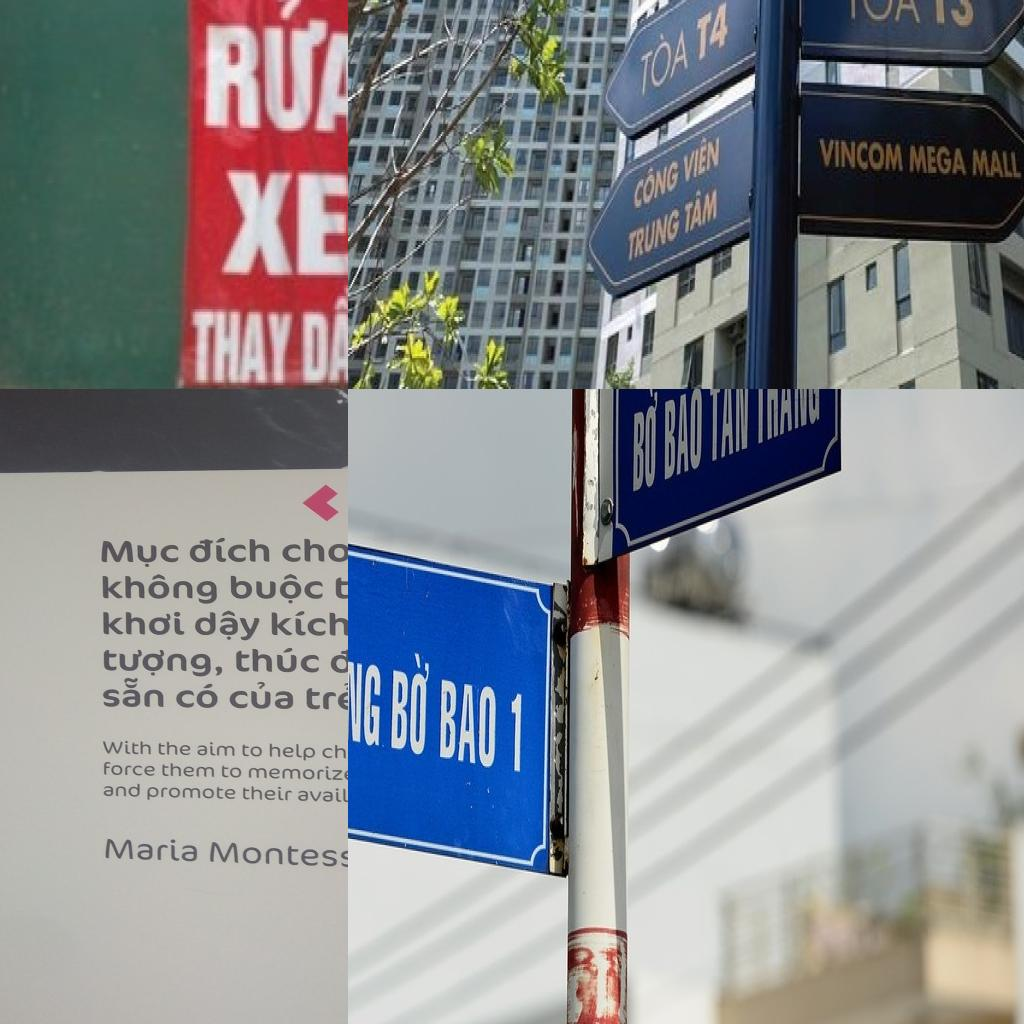text: (199, 0, 348, 143), (217, 164, 348, 285), (185, 303, 296, 389), (434, 659, 498, 773), (384, 638, 433, 760), (298, 282, 348, 389), (348, 618, 385, 752), (100, 645, 227, 681), (640, 19, 691, 101), (94, 573, 220, 606), (625, 389, 661, 499), (662, 389, 704, 481), (705, 389, 751, 467), (99, 833, 201, 868), (224, 572, 326, 604), (627, 208, 683, 264), (818, 138, 906, 173), (229, 644, 324, 675), (185, 534, 273, 567), (100, 607, 188, 640), (634, 153, 680, 214), (98, 538, 183, 571), (266, 607, 348, 641), (190, 606, 261, 644), (225, 680, 296, 714), (244, 762, 348, 785), (695, 0, 731, 66), (99, 678, 168, 712), (683, 130, 721, 187), (278, 536, 348, 566), (841, 0, 922, 25), (684, 181, 720, 237), (908, 144, 969, 177), (506, 682, 526, 776), (297, 679, 348, 715), (144, 784, 238, 802), (170, 680, 224, 711), (926, 0, 976, 27), (98, 760, 156, 780), (295, 787, 348, 808), (266, 740, 318, 761), (100, 737, 154, 757), (158, 761, 216, 779), (237, 785, 295, 803), (323, 642, 348, 680), (195, 740, 237, 758), (100, 782, 142, 800), (155, 740, 194, 758), (330, 567, 348, 604), (319, 742, 348, 763), (217, 762, 244, 780), (238, 742, 264, 760)
